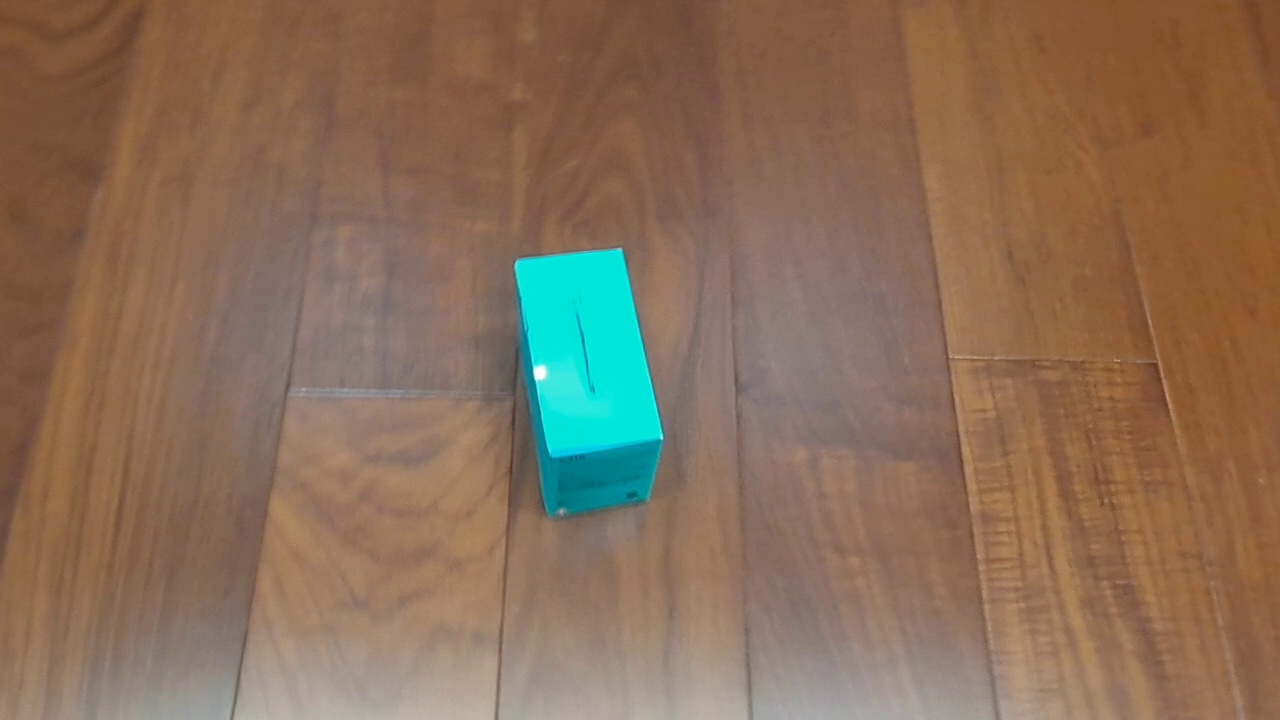webcam: (512, 246, 665, 521)
